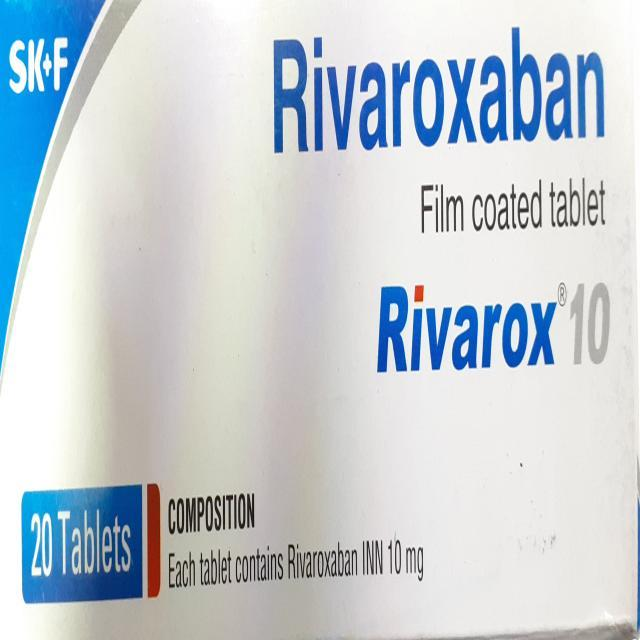drug-name: (373, 276, 615, 376)
